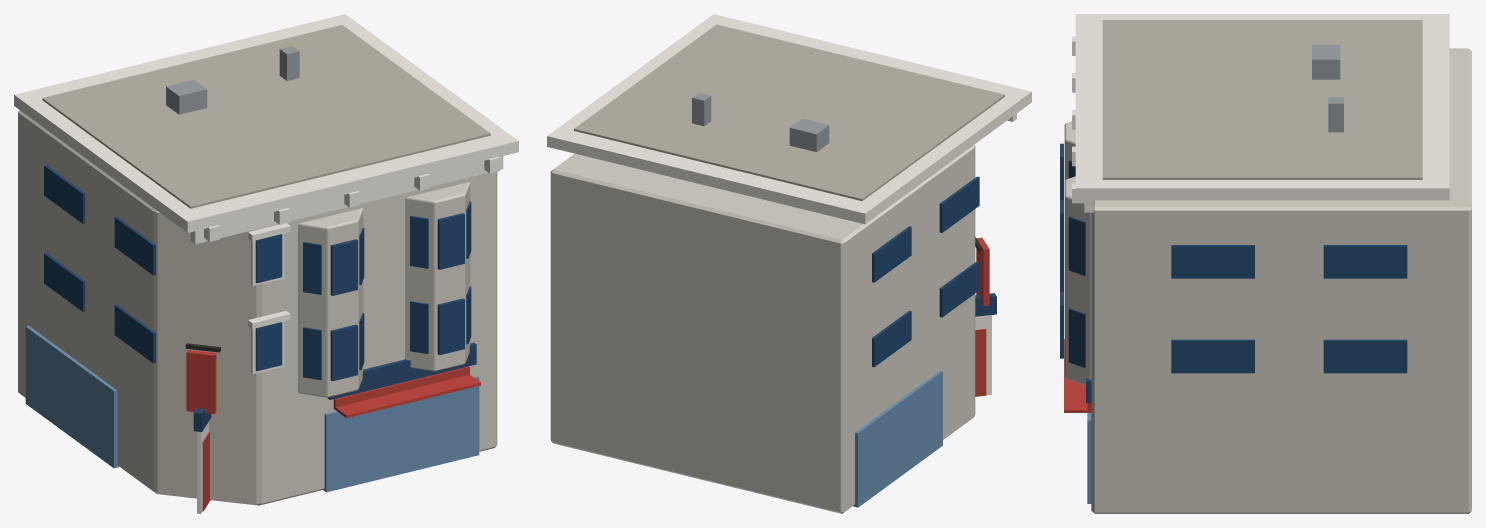
File: liquor_corner_f3.glb
The picture shows the model from 3 angles, left to right: view 1: azimuth 30°, elevation 25°; view 2: azimuth 150°, elevation 25°; view 3: azimuth 270°, elevation 25°; orthographic projection. The views are drawn at different scales.
Parts seen in each view (by area): view 1: lwalls, roofslab, corn, shopf, shops, bay, bay.001, frieze, awn, blade, fascia, bw (+18 smaller); view 2: lwalls, roofslab, corn, shops, sb, sb.004, sb.006, sb.002, hvac, cdoor, blade, cfr (+1 smaller); view 3: lwalls, roofslab, corn, bay.001, sb.003, sb.001, sb.007, sb.005, hvac, bwa.005, bwa.007, awn (+2 smaller).
Part boxes in pixels (x1,y1,x2,y2): lwalls: [18, 110, 497, 505]; roofslab: [42, 25, 490, 208]; corn: [14, 14, 518, 232]; shopf: [323, 376, 479, 492]; shops: [25, 325, 118, 468]; bay: [298, 208, 363, 397]; bay.001: [405, 182, 470, 371]; frieze: [190, 156, 503, 244]; awn: [333, 374, 480, 417]; blade: [186, 350, 216, 414]; fascia: [327, 342, 476, 399]; bw: [330, 324, 357, 381]; lwalls: [550, 144, 975, 513]; roofslab: [574, 24, 1004, 200]; corn: [547, 14, 1031, 224]; shops: [853, 370, 942, 507]; sb: [939, 261, 979, 317]; sb.004: [939, 176, 979, 232]; sb.006: [872, 226, 911, 282]; sb.002: [872, 310, 911, 367]; hvac: [789, 118, 829, 152]; cdoor: [975, 329, 986, 396]; blade: [976, 237, 989, 305]; cfr: [975, 315, 991, 395]; lwalls: [1091, 48, 1471, 513]; roofslab: [1102, 20, 1422, 179]; corn: [1075, 14, 1449, 200]; bay.001: [1064, 176, 1091, 385]; sb.003: [1323, 339, 1407, 373]; sb.001: [1171, 339, 1254, 373]; sb.007: [1323, 245, 1407, 278]; sb.005: [1171, 245, 1254, 278]; hvac: [1312, 44, 1340, 79]; bwa.005: [1068, 308, 1085, 367]; bwa.007: [1068, 216, 1085, 275]; awn: [1064, 339, 1091, 412].
Bounding box in the file's own units: 13 × 12.7 × 12.99.
